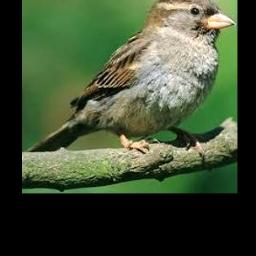Sparrow: (26, 0, 236, 157)
